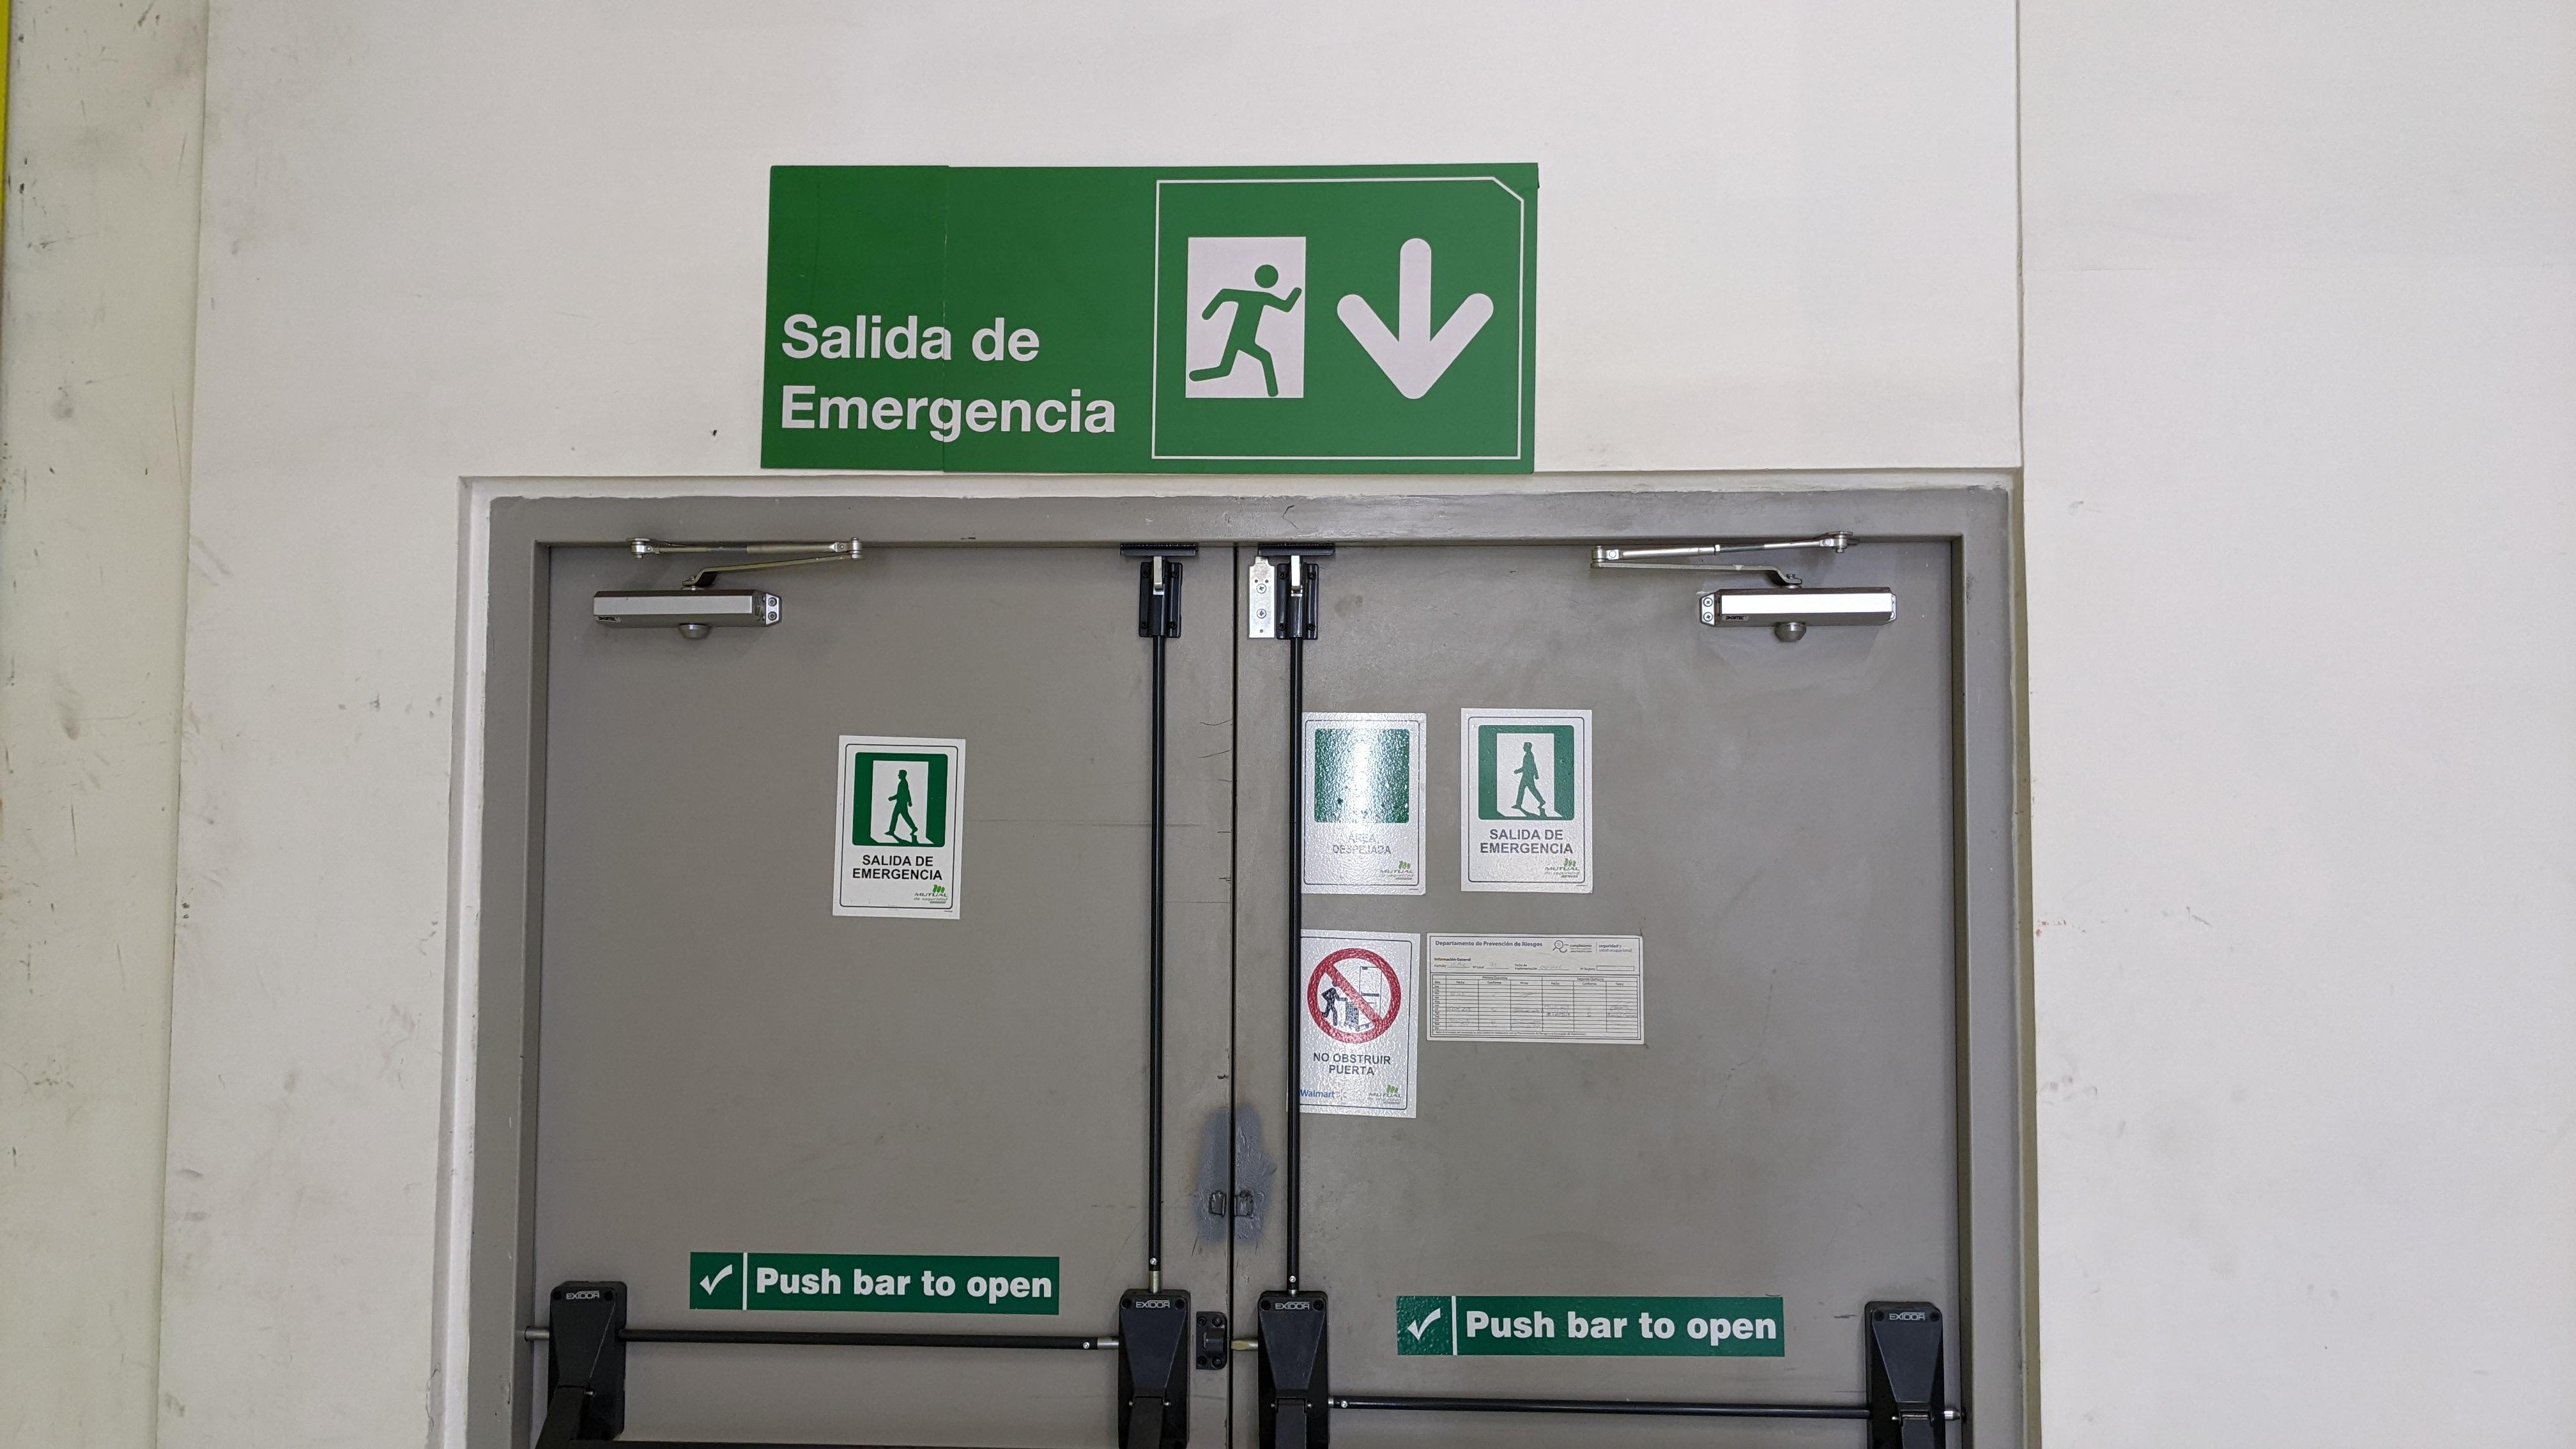emergency down arrow: (1334, 234, 1496, 404)
emergency exit: (1188, 261, 1305, 399)
